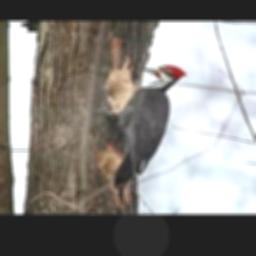Woodpecker: (101, 65, 186, 205)
